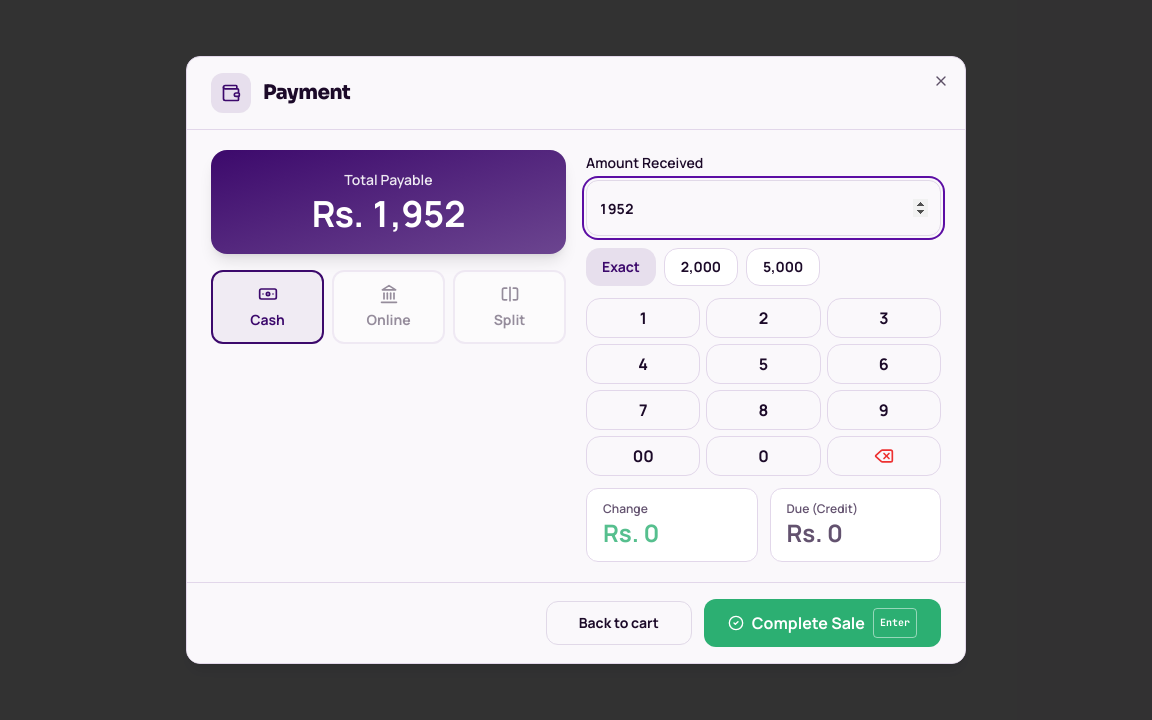
Test: the premium screen › less than the total is a partial payment, with the credit due shown
This screenshot has width=1152, height=720.
Later steps or results of the test are not shown.
Replace the text in the number field labelled "Amount Received" with "1000": (764, 208) [586, 180, 941, 236]
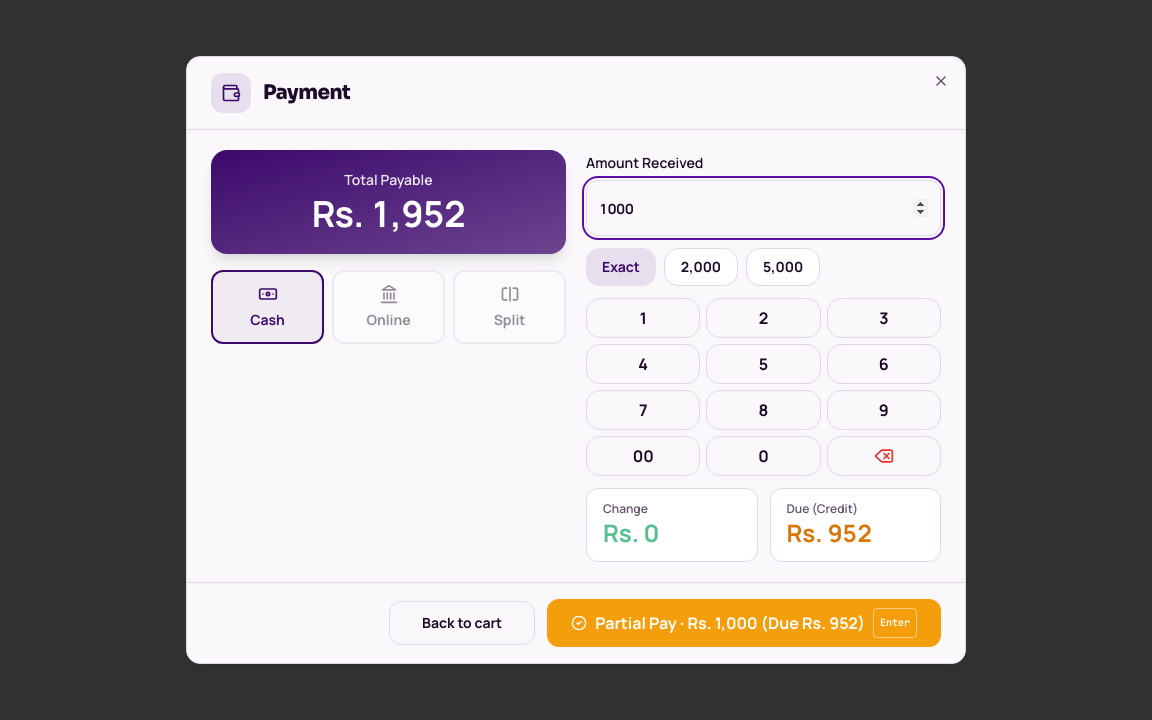
Check: the element showing "Due (Credit) Rs. 952" is shown, box [770, 488, 941, 562]
Check: the button "Partial Pay · Rs. 1,000 (Due Rs. 952) Enter" is shown, box [547, 599, 941, 647]
